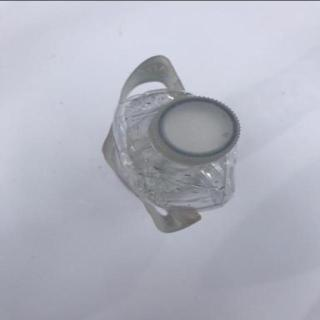Anorganik: (96, 70, 246, 220)
